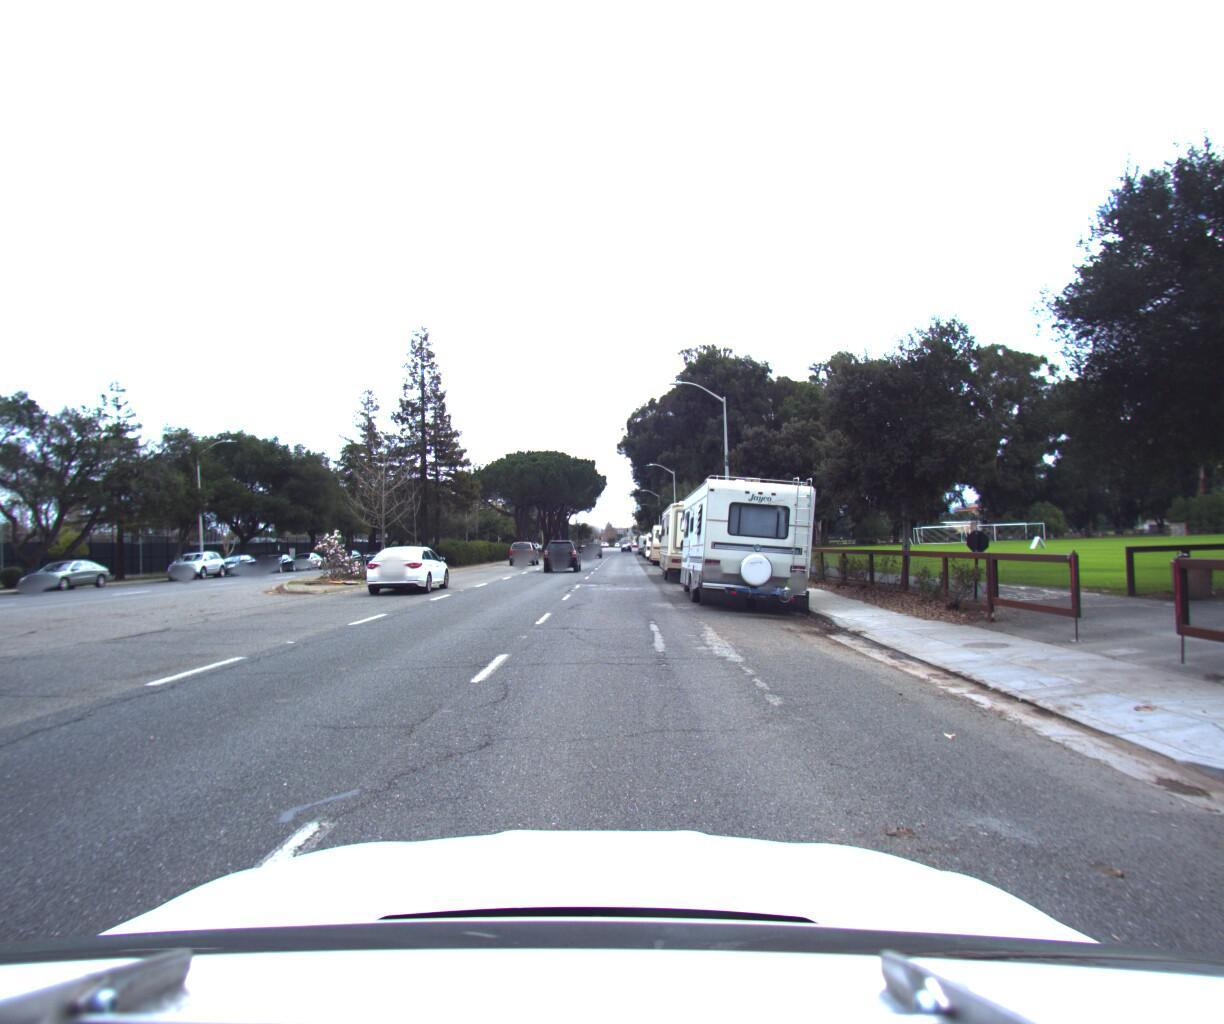car: (360, 537, 460, 591), (12, 550, 118, 589), (161, 542, 229, 576), (543, 532, 583, 566), (206, 548, 262, 573), (251, 546, 302, 568), (285, 543, 327, 565), (507, 528, 541, 554), (586, 533, 604, 550)
other_vehicle: (669, 451, 838, 617), (653, 483, 739, 583), (644, 510, 691, 560), (641, 521, 675, 553)
